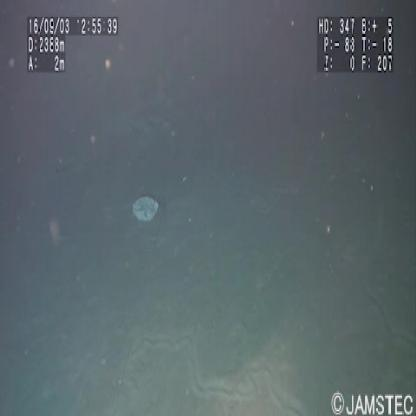Rác: (128, 191, 166, 225)
